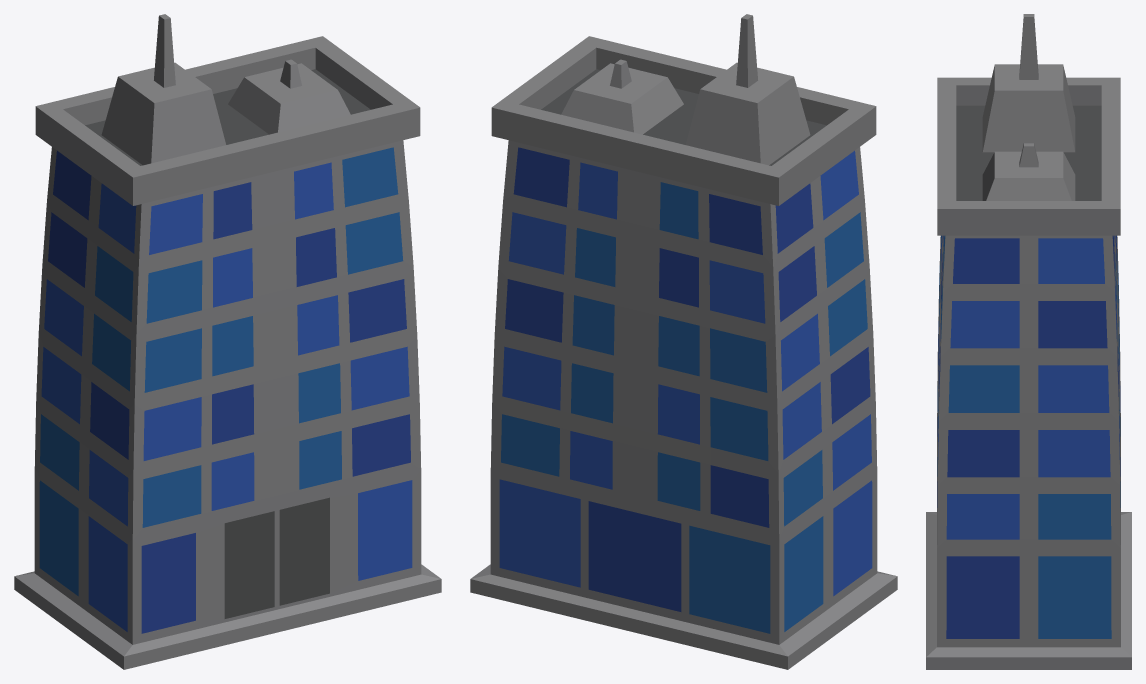
Rendered from HighHouse 3.1.fbx.
3 views of the same model, side by side, from view 1: azimuth 30°, elevation 25°; view 2: azimuth 150°, elevation 25°; view 3: azimuth 270°, elevation 25° (orthographic). The views are drawn at different scales.
Parts seen in each view (by area): view 1: HighHouse_3_01; view 2: HighHouse_3_01; view 3: HighHouse_3_01.
Boxes of the visible parts, left/top/right/bottom form: HighHouse_3_01: left=14, top=14, right=441, bottom=669; HighHouse_3_01: left=470, top=14, right=897, bottom=669; HighHouse_3_01: left=926, top=14, right=1131, bottom=669.
Bounding box in the file's own units: 583 × 1035 × 349.
